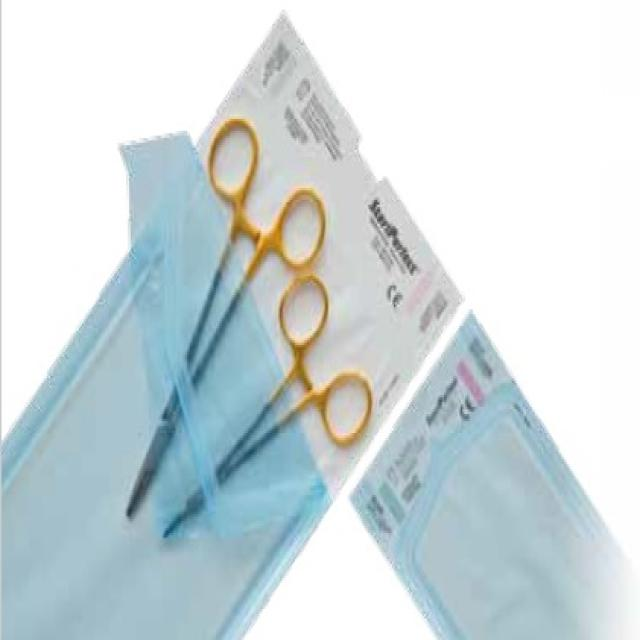B3: (112, 69, 330, 566), (155, 264, 382, 550)
